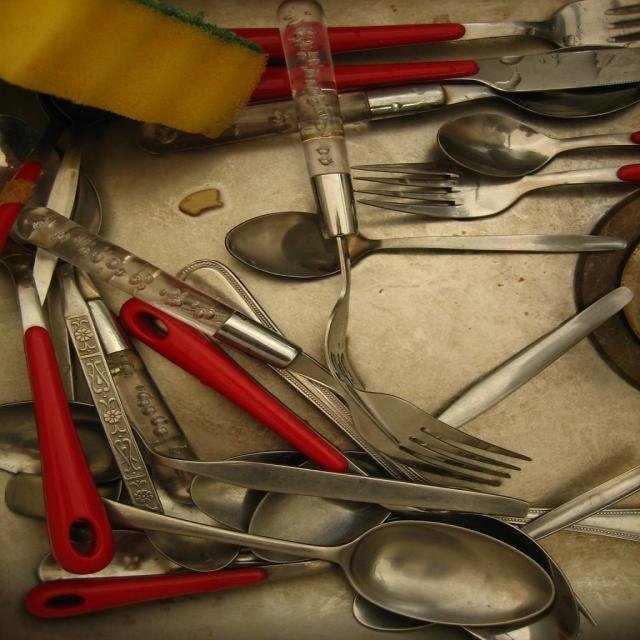Metal: (231, 212, 640, 635), (352, 94, 617, 229)
Plastics: (18, 336, 112, 624)
